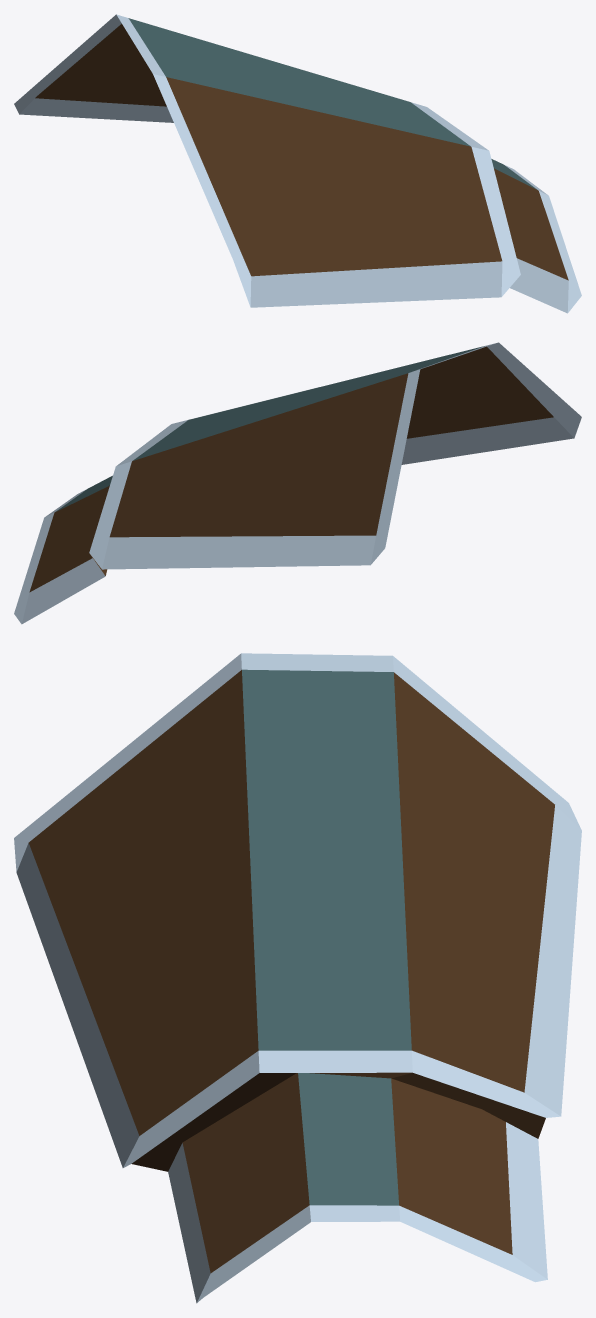
The model's file is leather_lshoulderpad_obj.fbx.
3 renders of one model, top to bottom at view 1: azimuth 30°, elevation 25°; view 2: azimuth 150°, elevation 25°; view 3: azimuth 270°, elevation 25°, orthographic. The views are drawn at different scales.
Visible parts, largest first — view 1: Lshoulderpad; view 2: Lshoulderpad; view 3: Lshoulderpad.
Part boxes in pixels (left/top/right/bottom): Lshoulderpad: left=14, top=14, right=581, bottom=313; Lshoulderpad: left=14, top=342, right=581, bottom=624; Lshoulderpad: left=14, top=653, right=581, bottom=1303.
Bounding box in the file's own units: 176 × 130 × 159.
